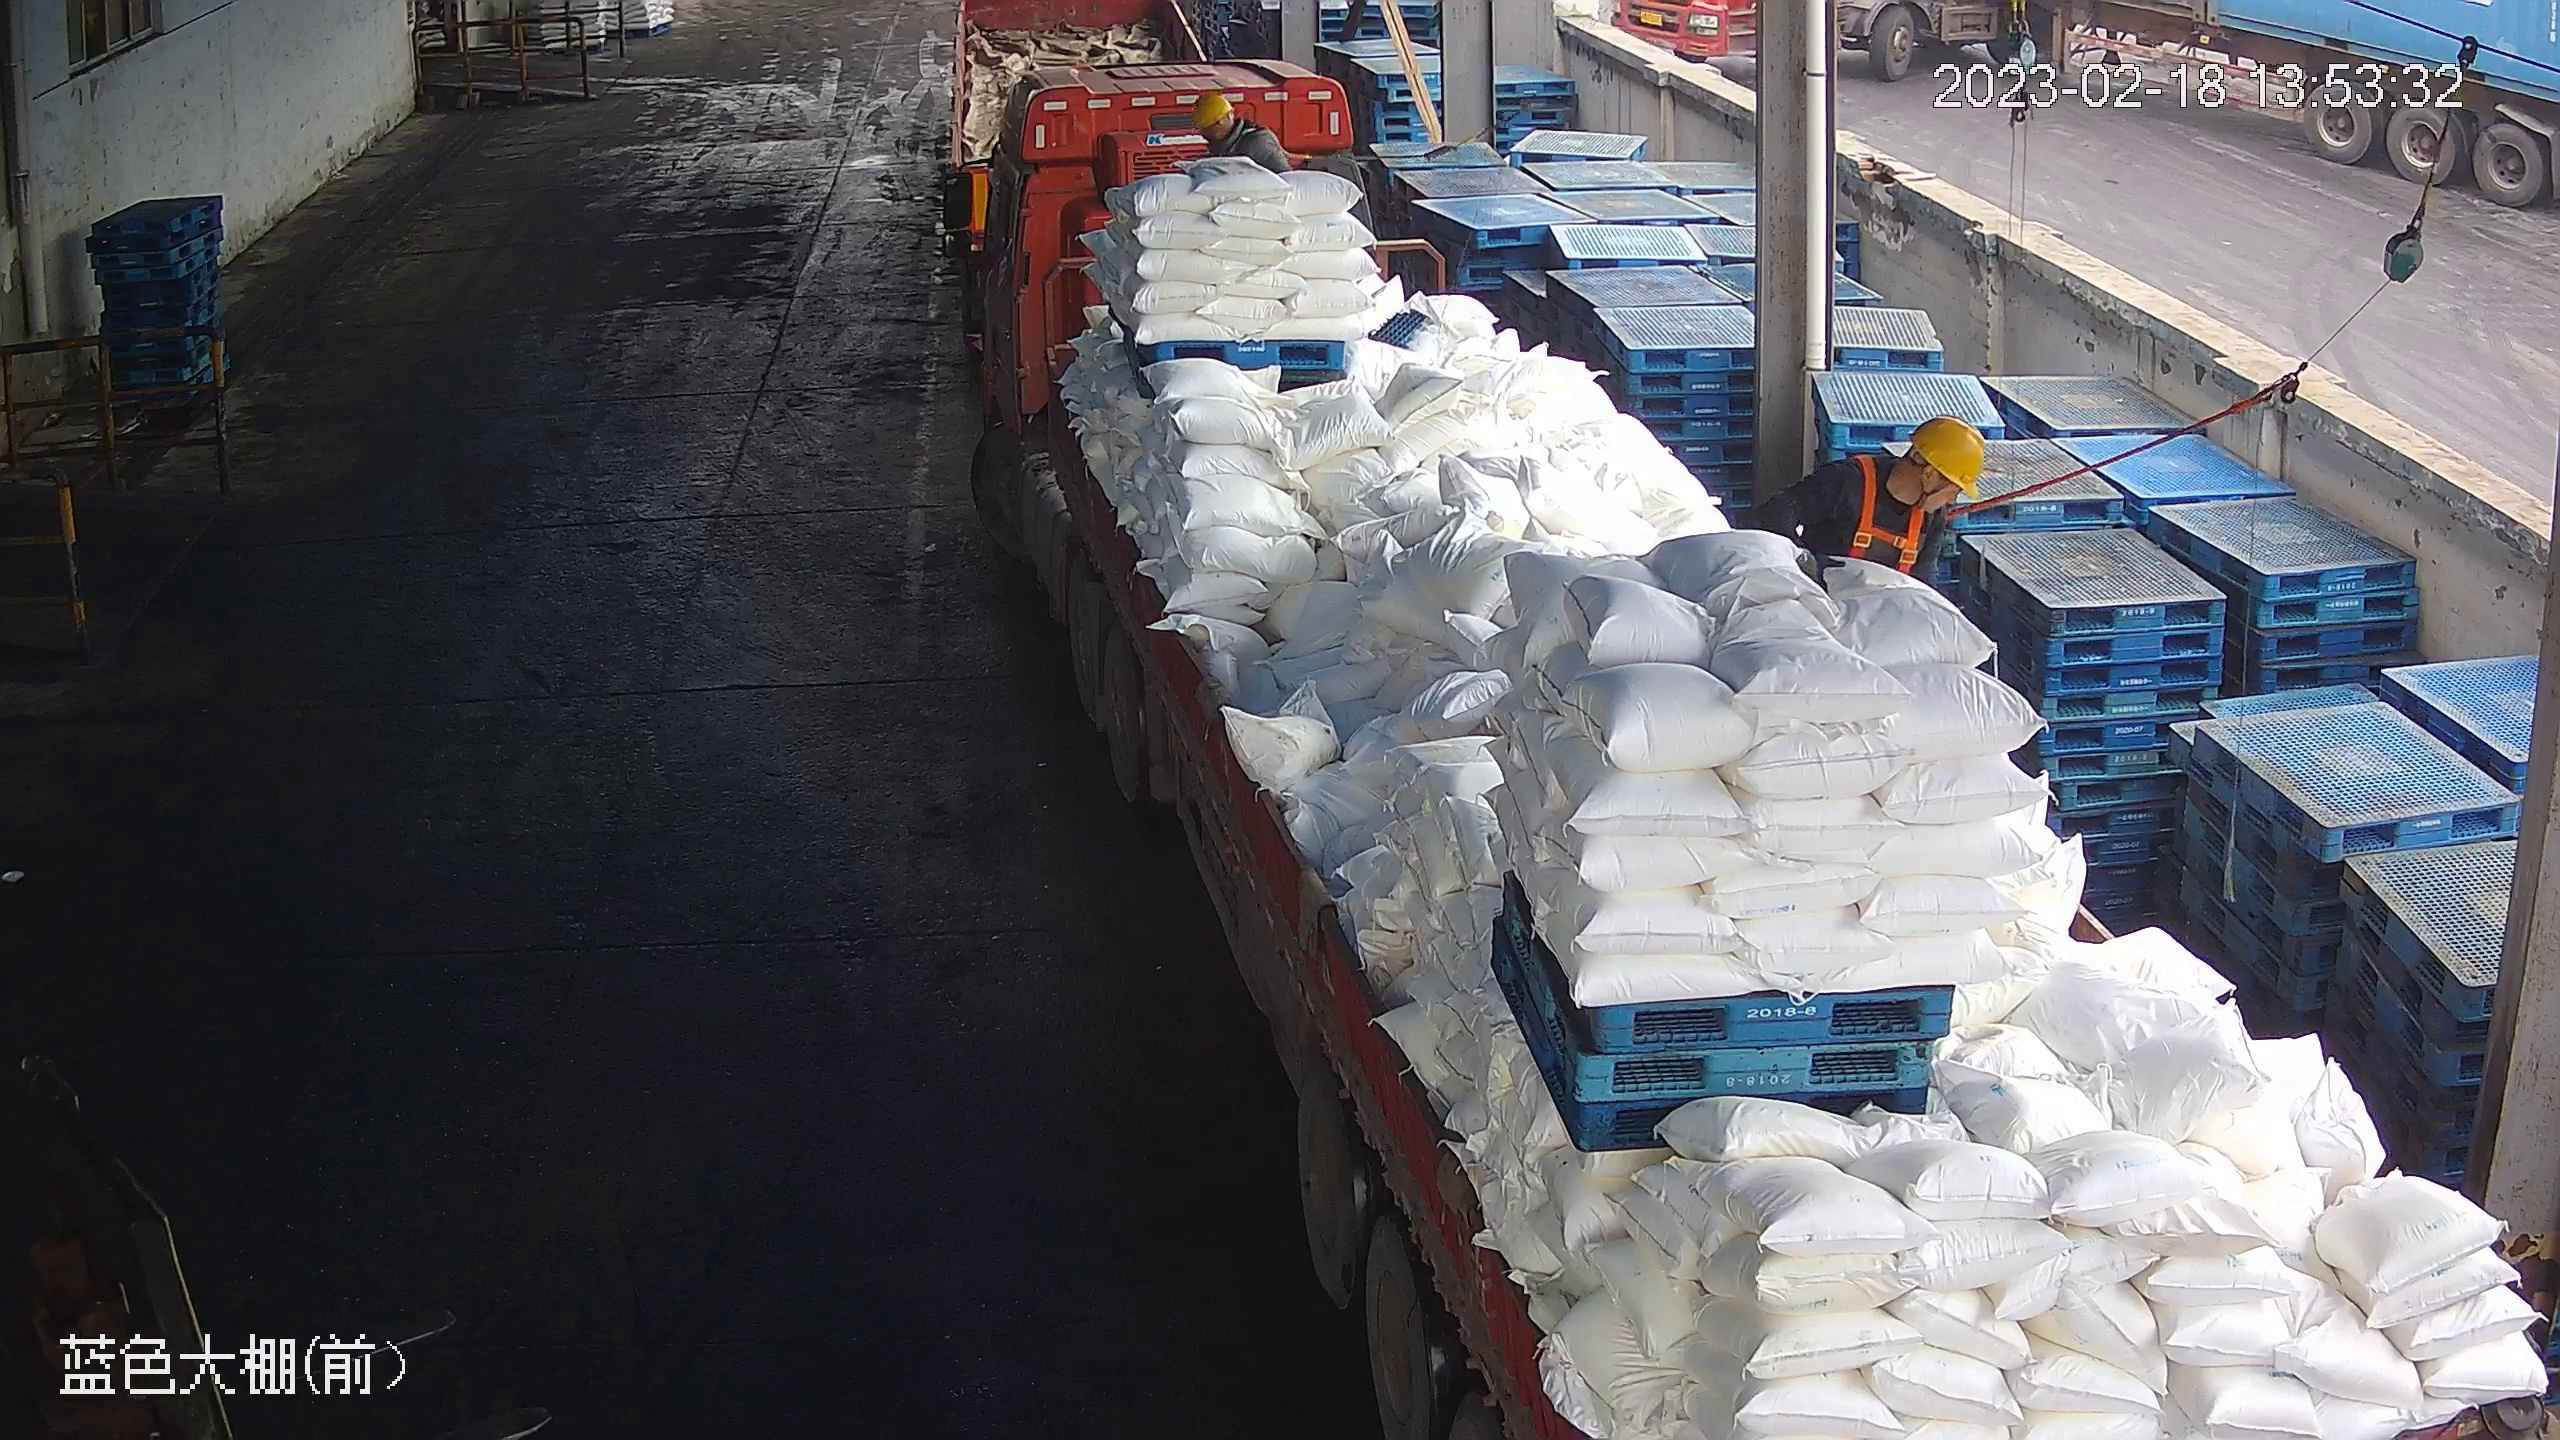belt: (1845, 454, 1980, 571)
head: (1813, 417, 1986, 537), (1191, 92, 1284, 155)
helmet: (1909, 415, 1982, 501), (1194, 93, 1236, 133)
truck: (973, 59, 2560, 1440)
